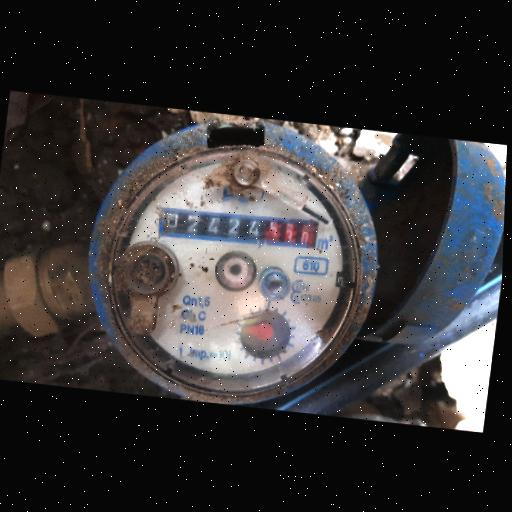0: (162, 211, 187, 234), (298, 222, 318, 246)
2: (223, 216, 248, 241), (183, 212, 207, 237)
3: (282, 222, 303, 245)
4: (244, 217, 267, 242), (204, 214, 227, 238)
5: (263, 219, 285, 244)
border_water_meter_number: (157, 203, 321, 254)
